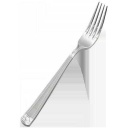fork: (22, 1, 120, 126)
